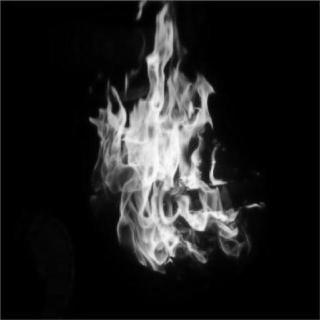Fire: (89, 7, 269, 269)
